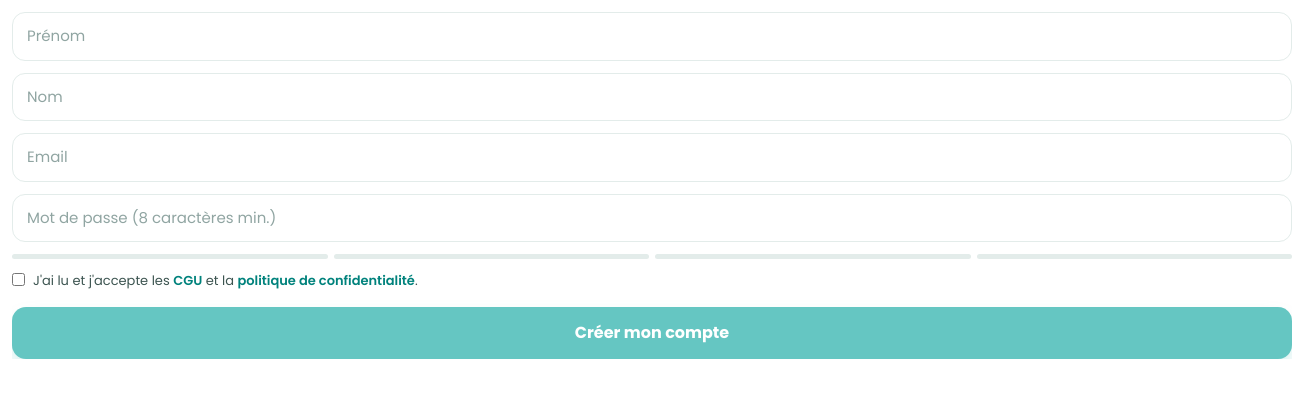
Test: RegisterForm › 400 → remonte le 1er message de validation du backend
The width and height of the screenshot is (1304, 408).
Type "Jean" into the field with placeholder "Prénom" at (652, 36), box [12,12,1292,60]
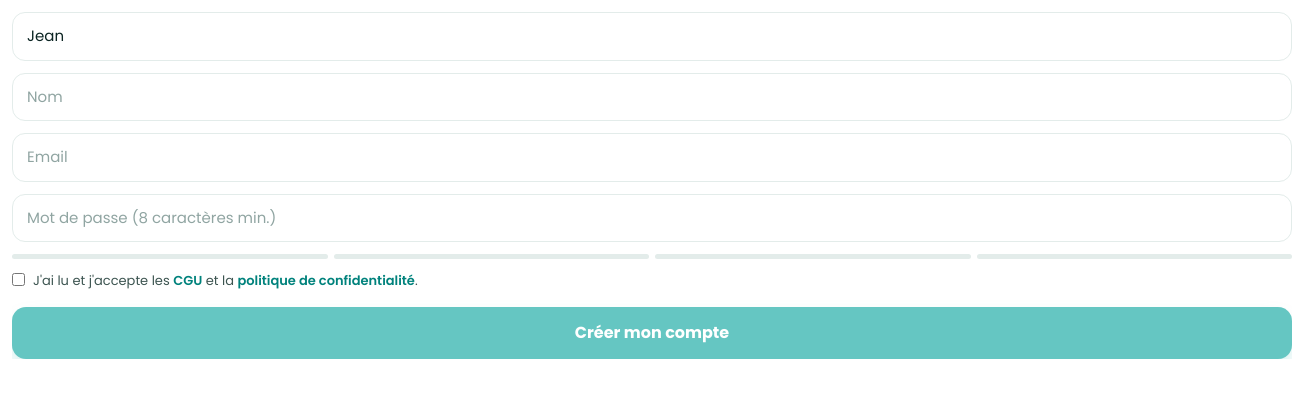
Type "Dupont" into the field with placeholder "Nom" at (652, 97), box [12,72,1292,121]
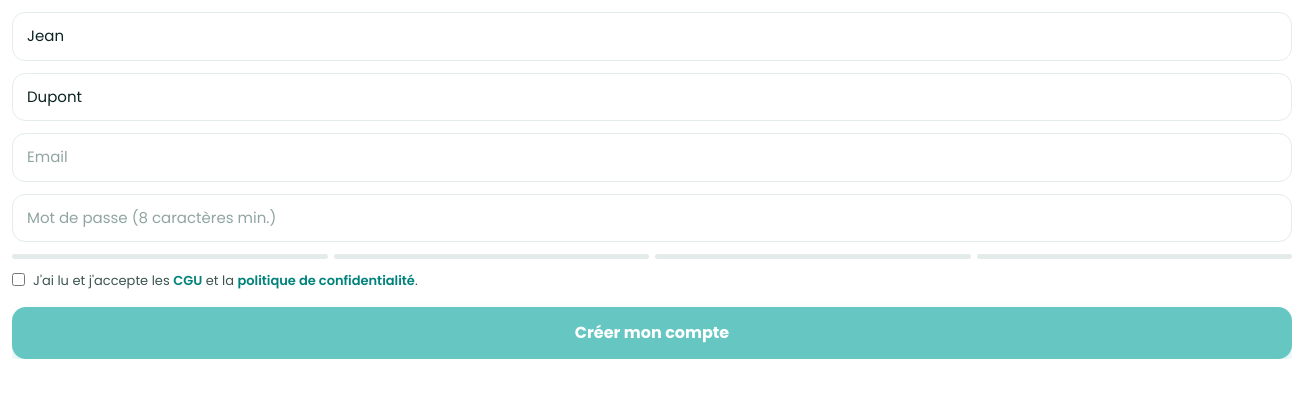
Type "jean@ex.fr" into the field with placeholder "Email" at (652, 157), box [12,133,1292,182]
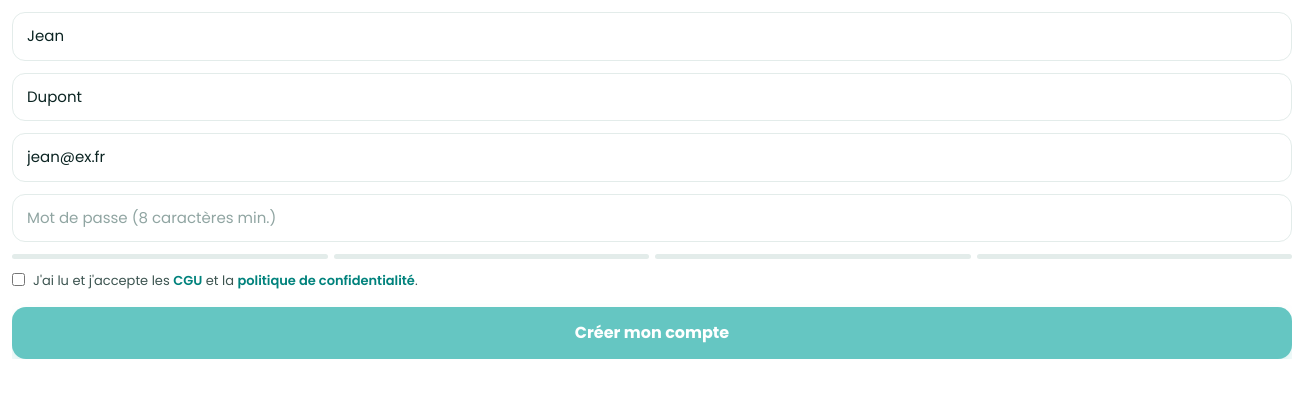
Type "Password1" into the password field with placeholder "Mot de passe (8 caractères min.)" at (652, 218), box [12,194,1292,242]
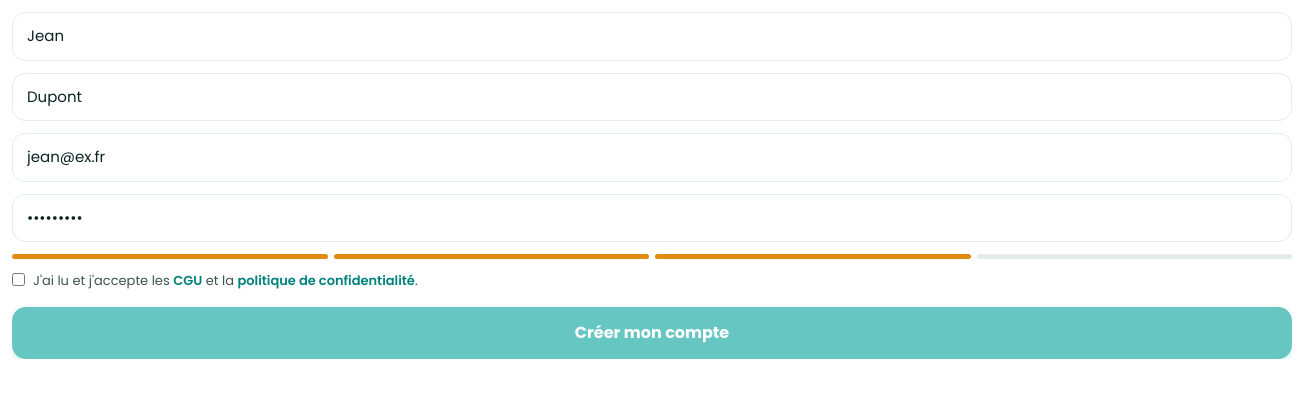
Click the checkbox at (18, 280), box [12,273,25,286]
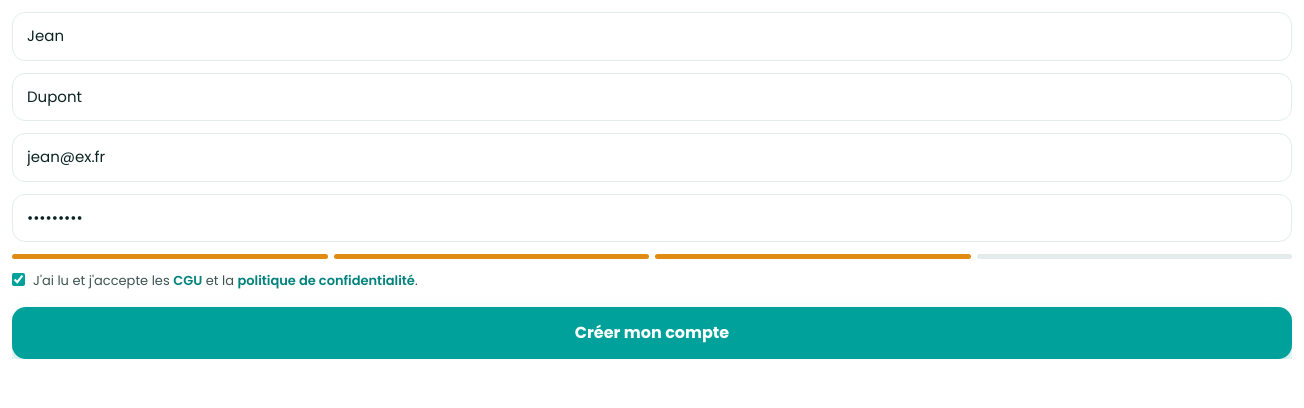
Click the button "Créer mon compte" at (652, 332), box [12,306,1292,358]
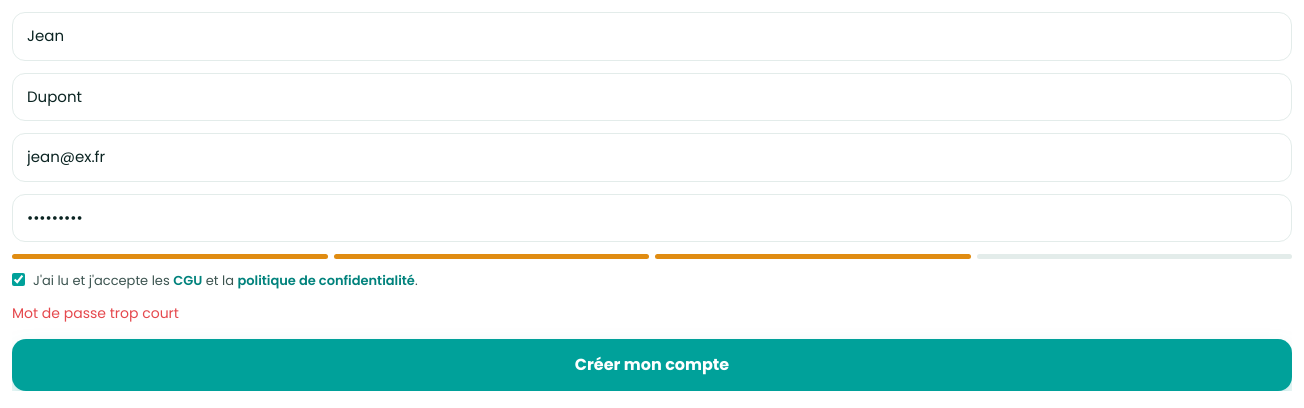
expect the text "Mot de passe trop court" is shown: met, box [12,302,179,322]
